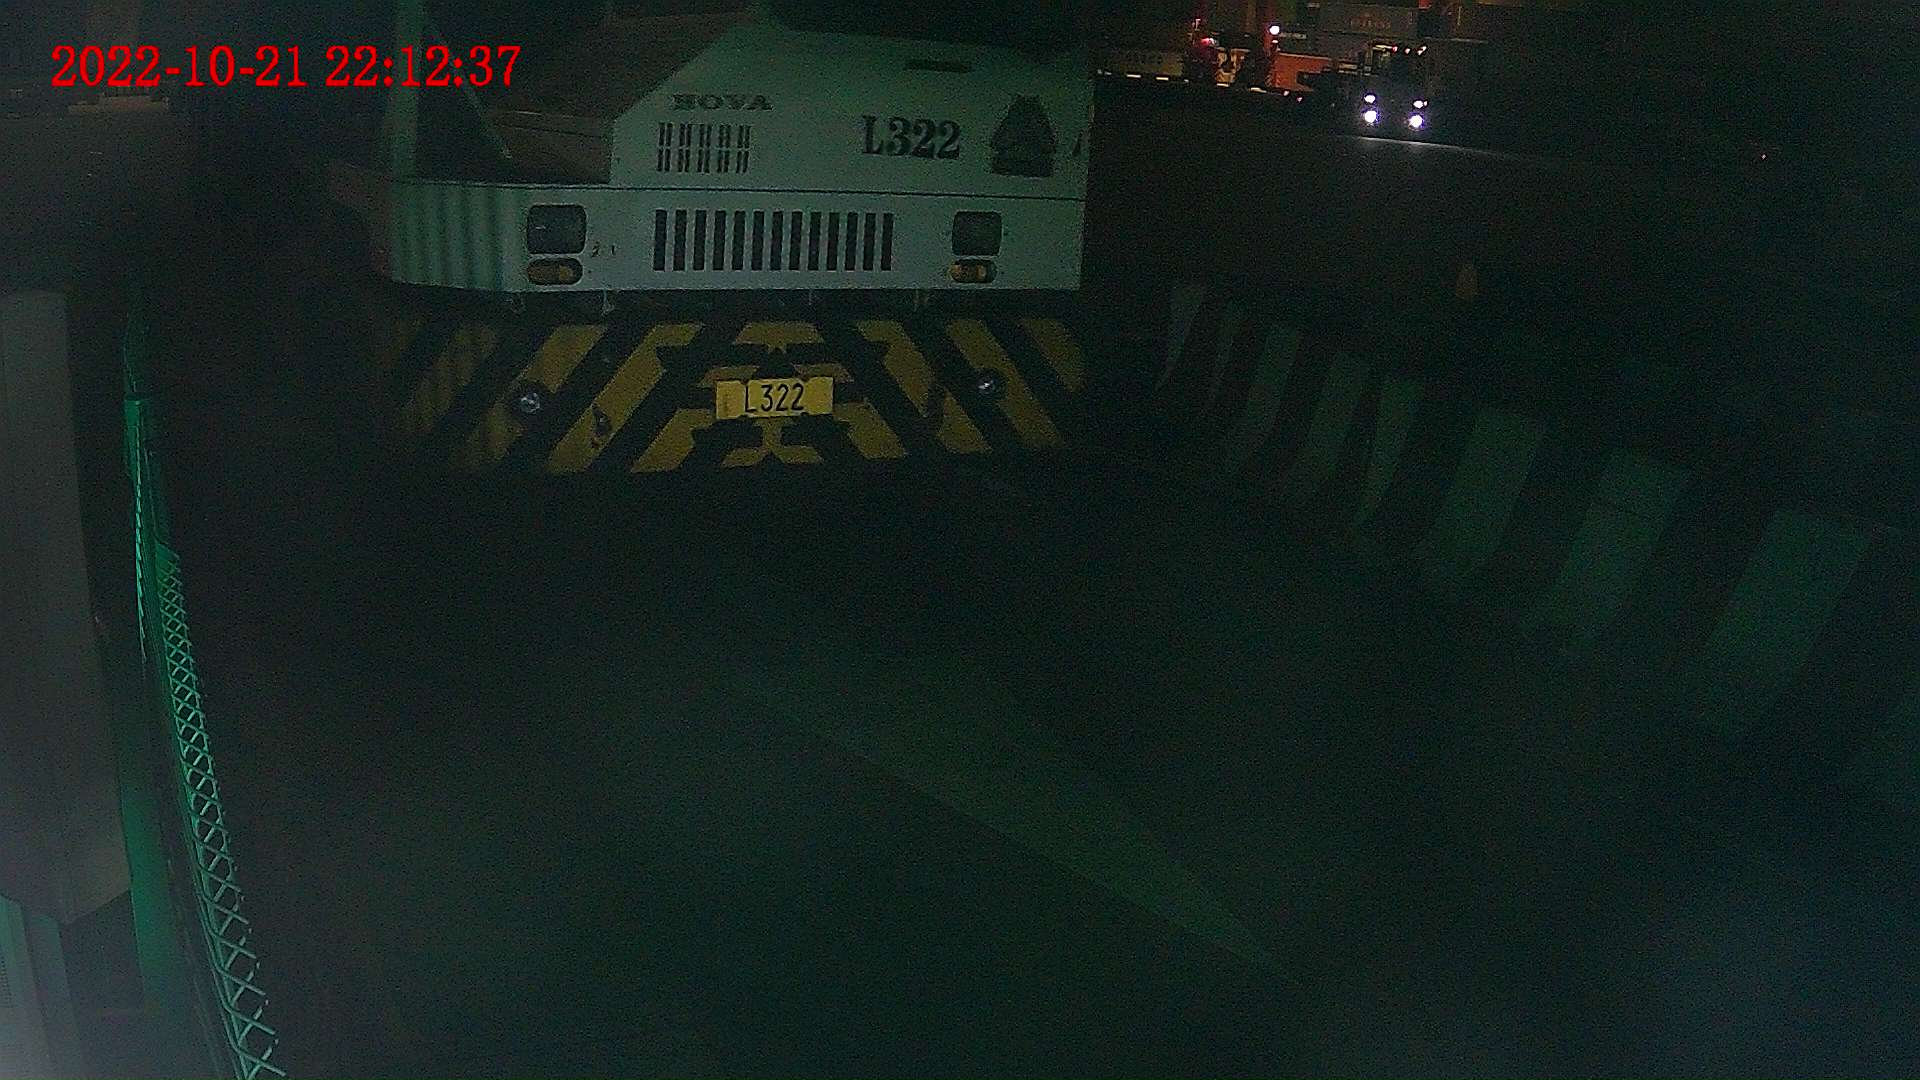head: (342, 1, 1106, 519)
plate: (718, 378, 834, 410)
